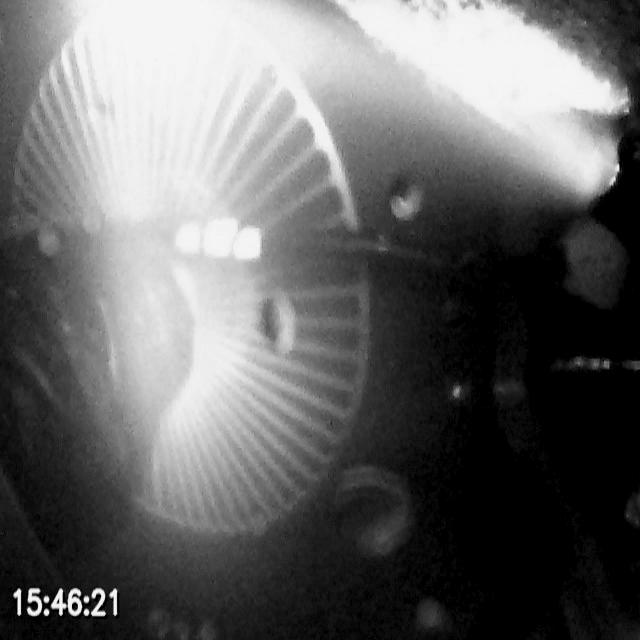white-dots: (174, 216, 263, 262)
